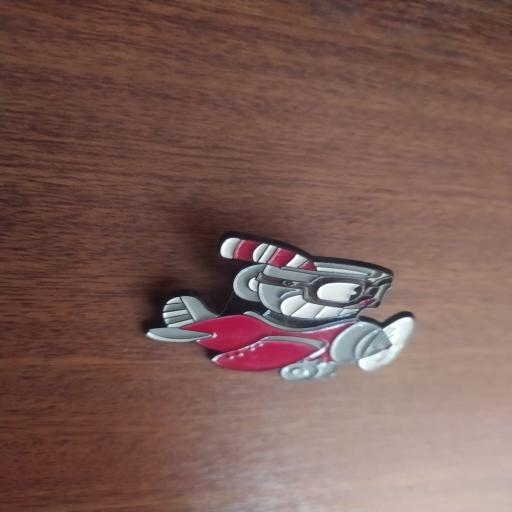Pin: (135, 227, 421, 389)
